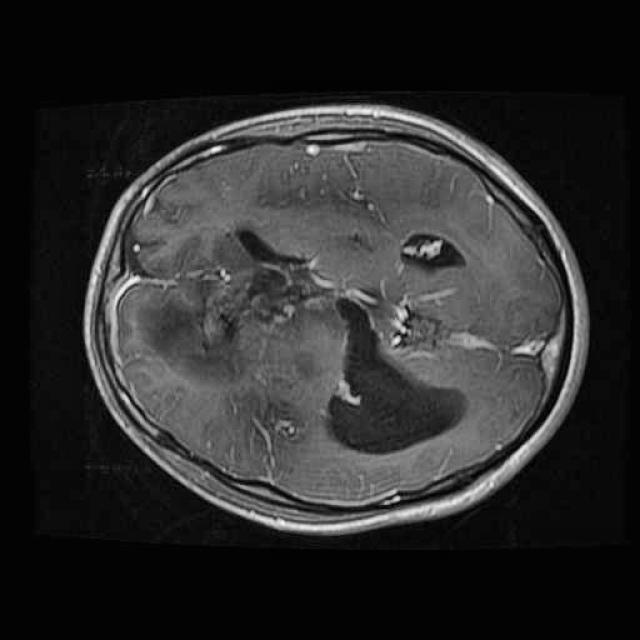Non-Tumor: (135, 215, 290, 399)
